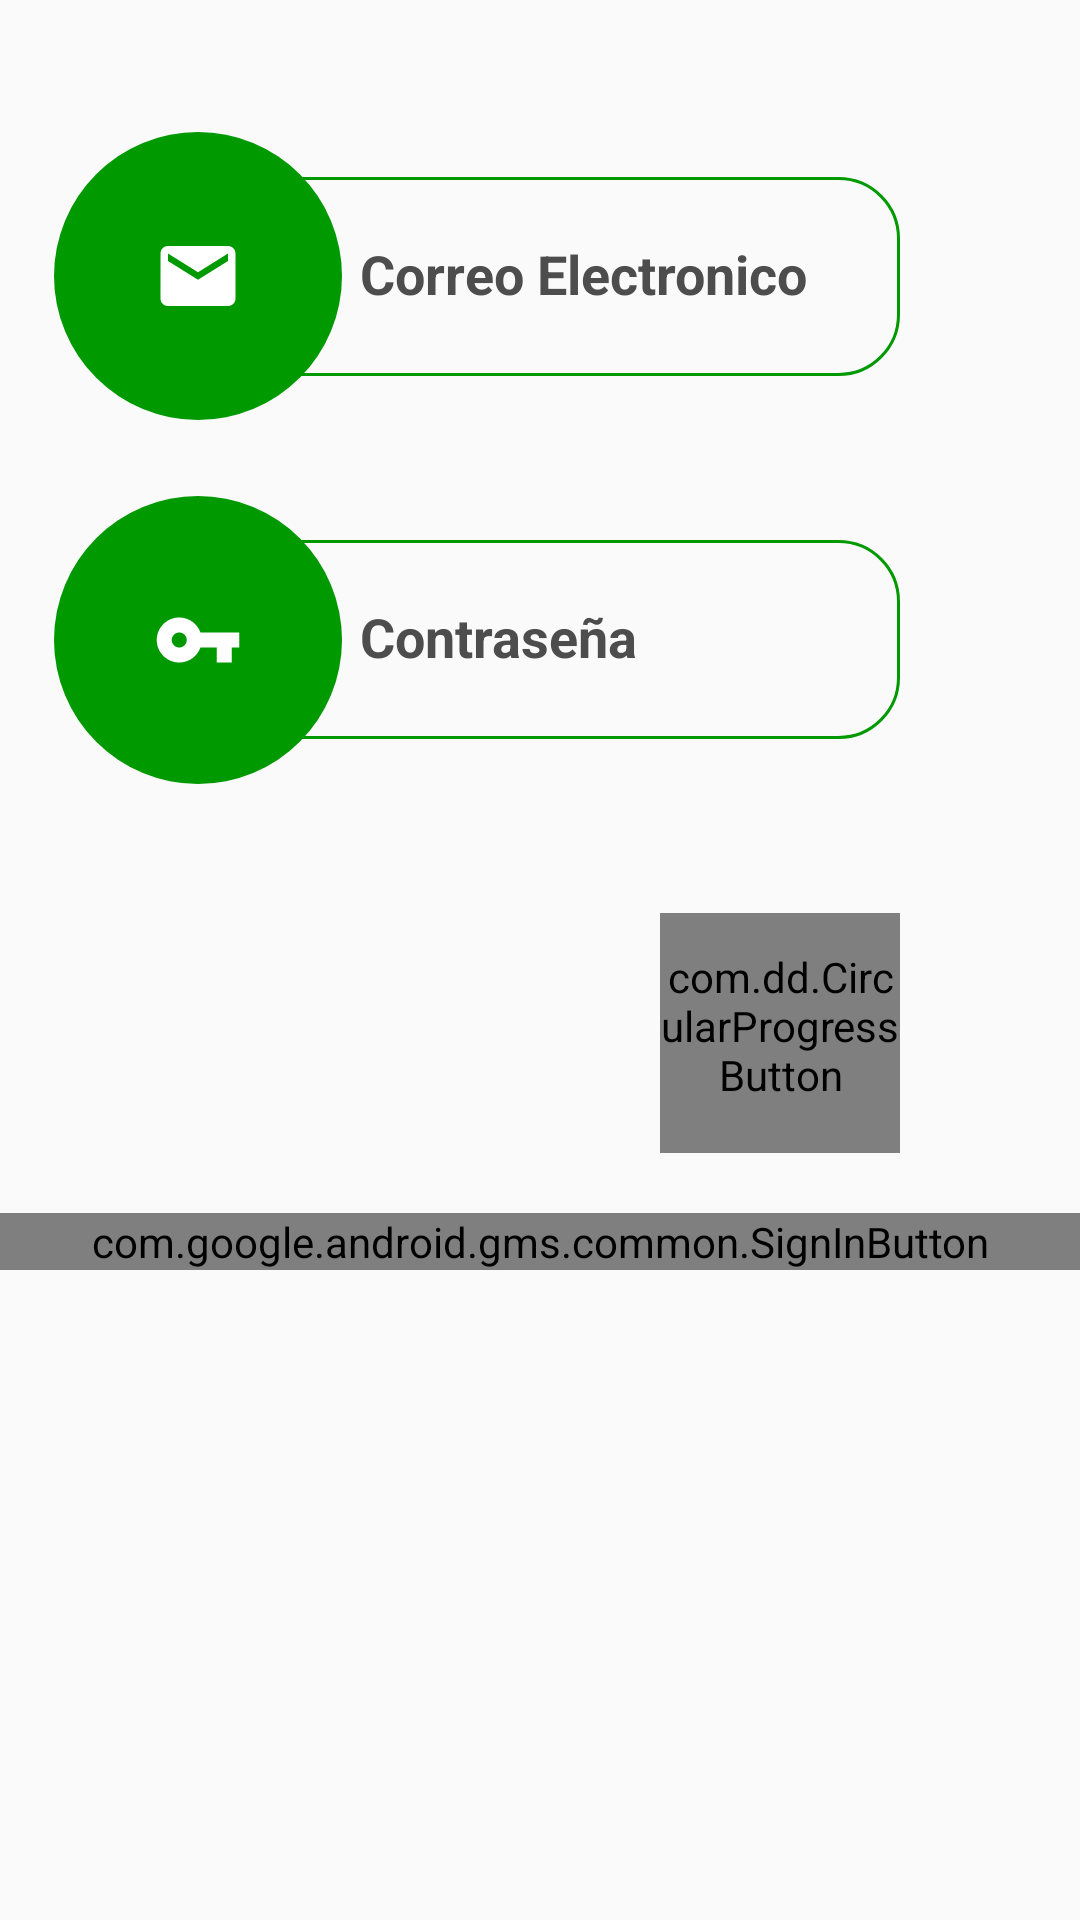

Screen size 1080w x 1920h. Icon name, then its center in pixels as point (x, y):
clave: point (198, 640)
